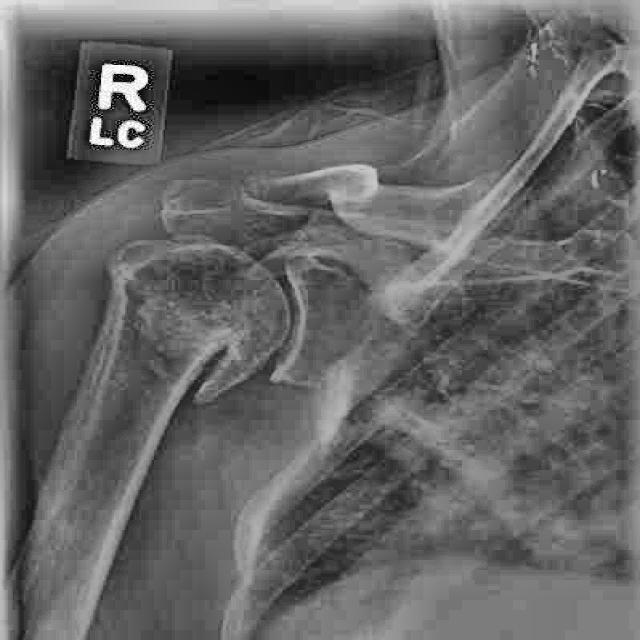shoulder fracture: (147, 314, 272, 428)
